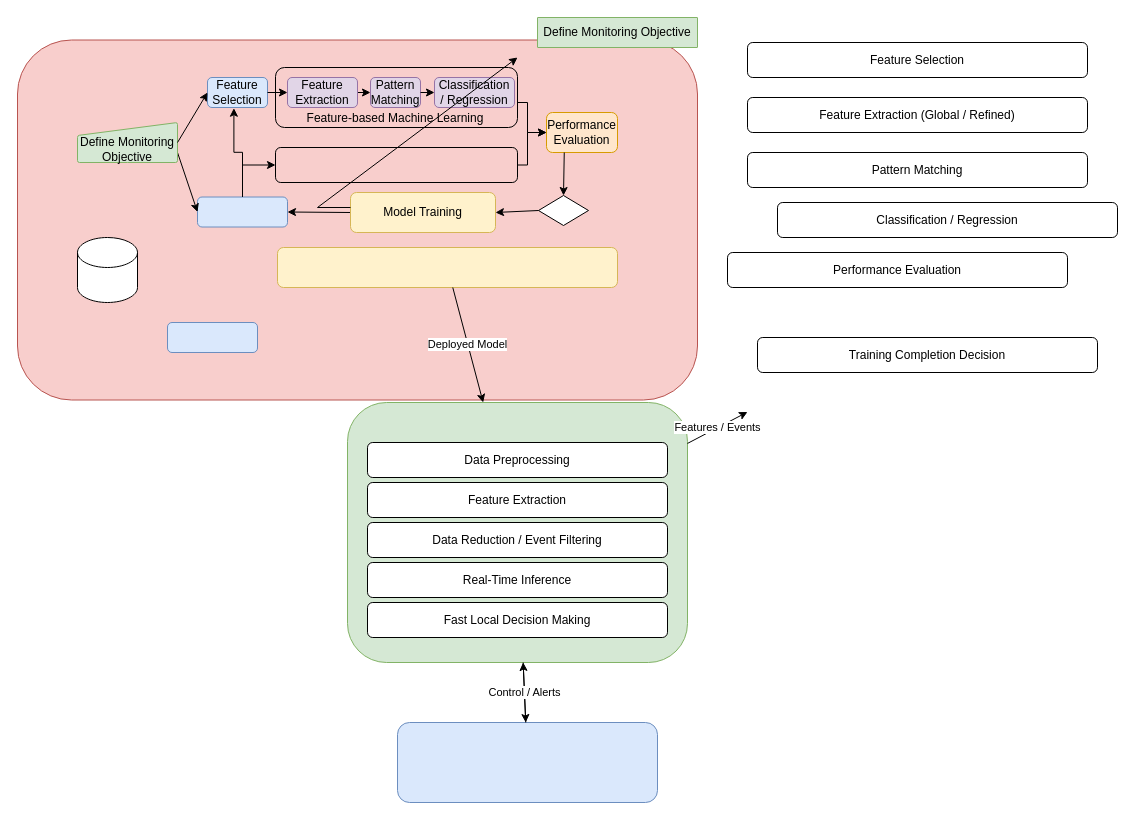
The diagram is 1135 pixels wide and 820 high, and some of its shapes have lost their labels. The shapes that lost their labels are listed below. From the top down, each one's centre as x and y in pixels, then its label:
At point 396,164: "End-to-End Deep Learning".
At point 242,211: "Sensor & Signal Selection".
At point 107,269: "History/Global Data".
At point 447,267: "Trained Model Deployment".
At point 212,337: "Real-time Data".
At point 527,762: "End Layer Machines / Sensors / Cameras Raw Multimodal Data".
